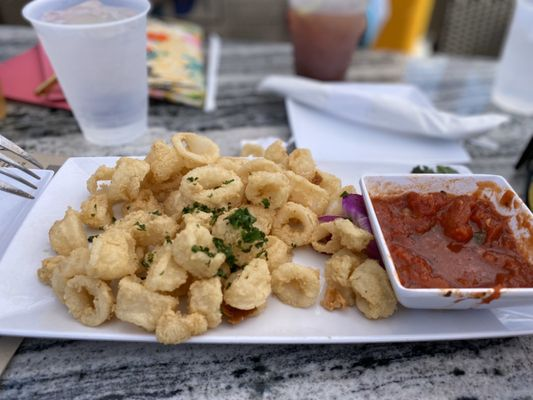burger: (0, 150, 54, 201)
curry: (211, 207, 269, 269)
pizza: (22, 0, 151, 148), (285, 0, 368, 81)
sushi: (358, 172, 533, 310)
